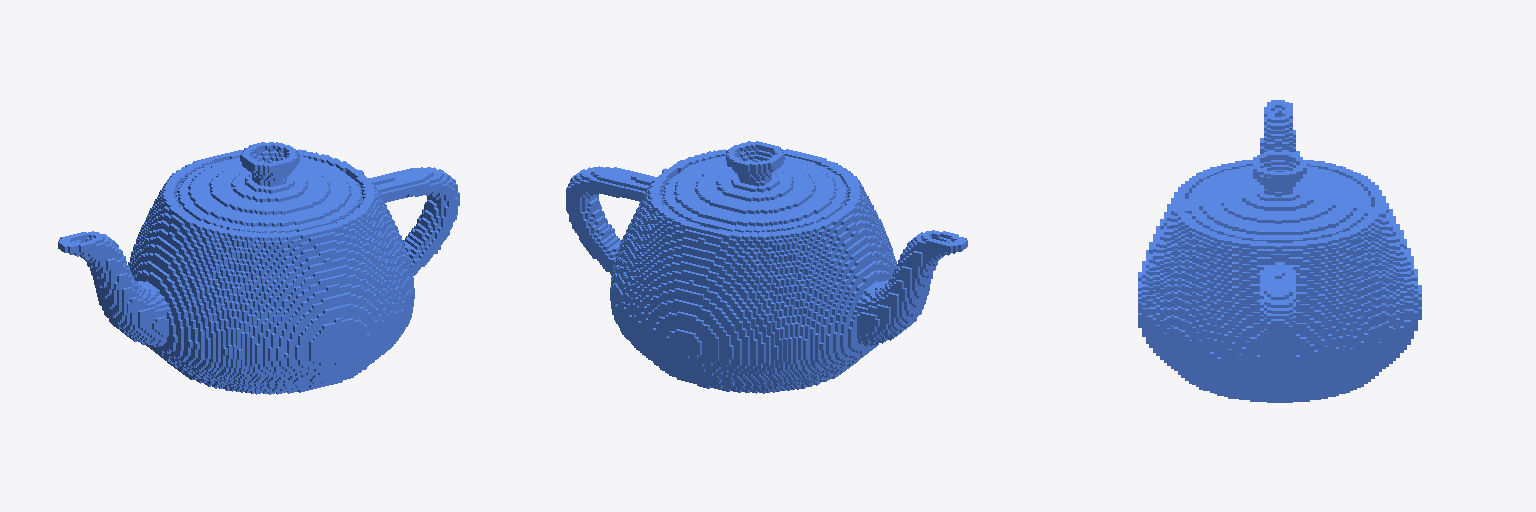
3 views of the same model, side by side, from view 1: azimuth 30°, elevation 25°; view 2: azimuth 150°, elevation 25°; view 3: azimuth 270°, elevation 25° (orthographic).
Visible parts, largest first — view 1: object 1; view 2: object 1; view 3: object 1.
Part boxes in pixels (x1,y1,x2,y2): object 1: (58, 142, 459, 394); object 1: (566, 141, 967, 393); object 1: (1138, 100, 1421, 402).
Size of the model in its own units: 12.6 by 6.1 by 7.9.
Materials: 1 (1 with a texture image).